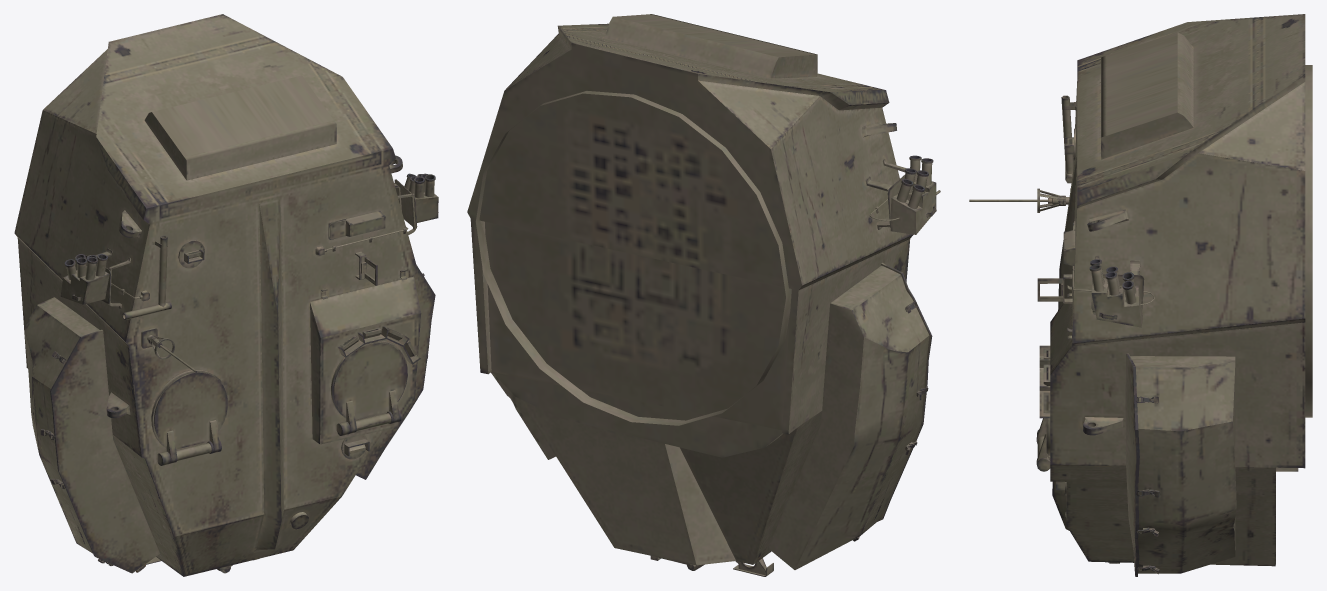
The model's file is Turret_01.glb.
3 renders of one model, left to right at view 1: azimuth 30°, elevation 25°; view 2: azimuth 150°, elevation 25°; view 3: azimuth 270°, elevation 25°, orthographic. The views are drawn at different scales.
Visible parts, largest first — view 1: set_0_group_0; view 2: set_0_group_0; view 3: set_0_group_0.
Boxes of the visible parts, x1,y1,x2,y2 form: set_0_group_0: (14,14,438,576); set_0_group_0: (467,14,940,576); set_0_group_0: (969,14,1312,576).
Bounding box in the file's own units: 2.76 × 3.31 × 1.94.
1 material, 1 textured.
